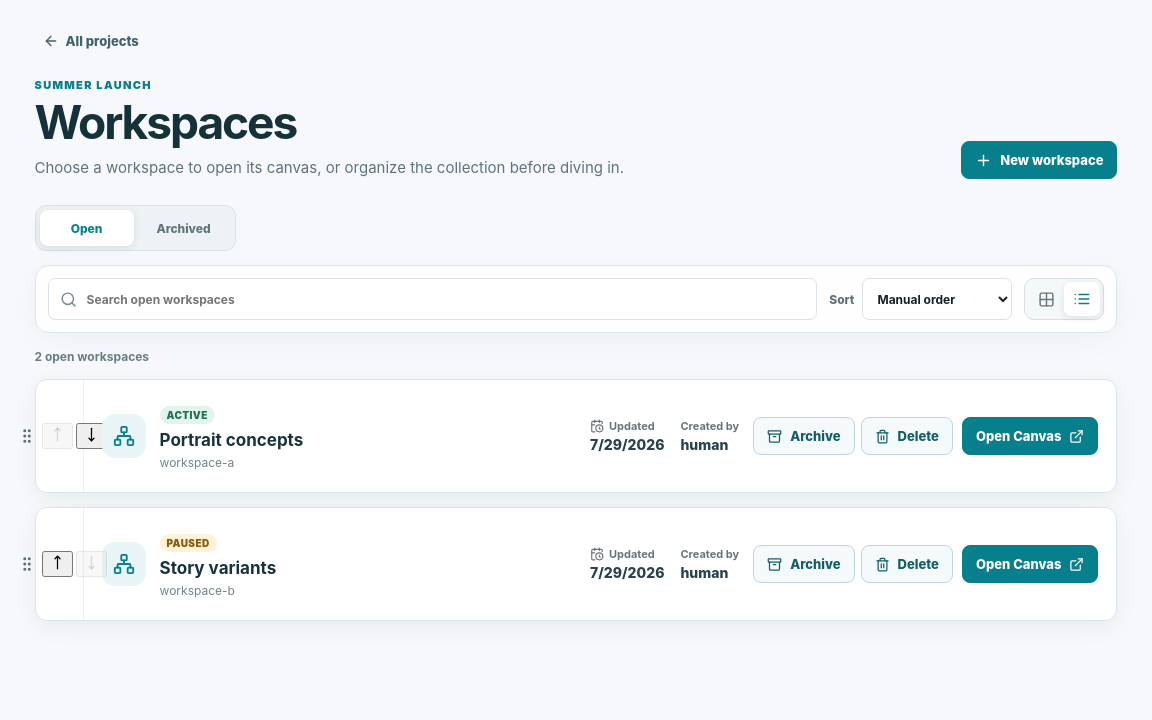
Test: ProjectOverview › keeps archived workspaces distinct and exposes restore instead of open
What coordinates should you click on to do the following:
click the tab "Archived"
I would click on:
 (184, 228)
Its box is [136,210,230,246].
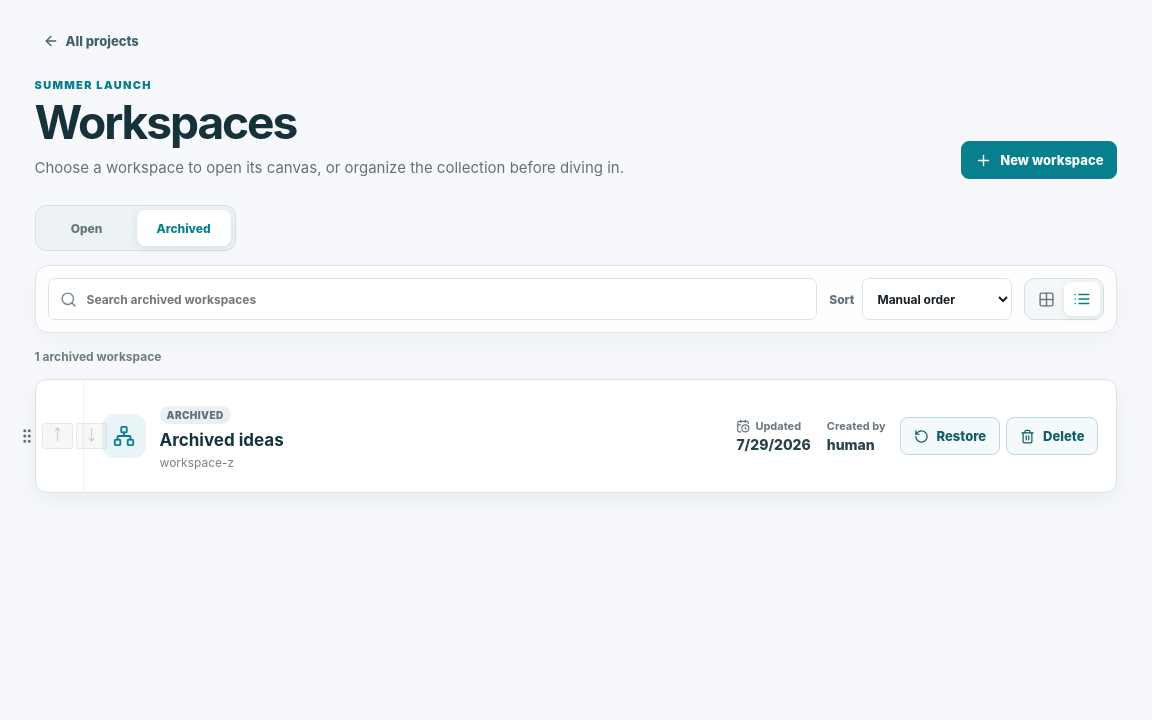
Now the text "Archived ideas" is shown, box [160,430,284,450]
Now the button "Restore" is shown, box [900,417,1000,455]
